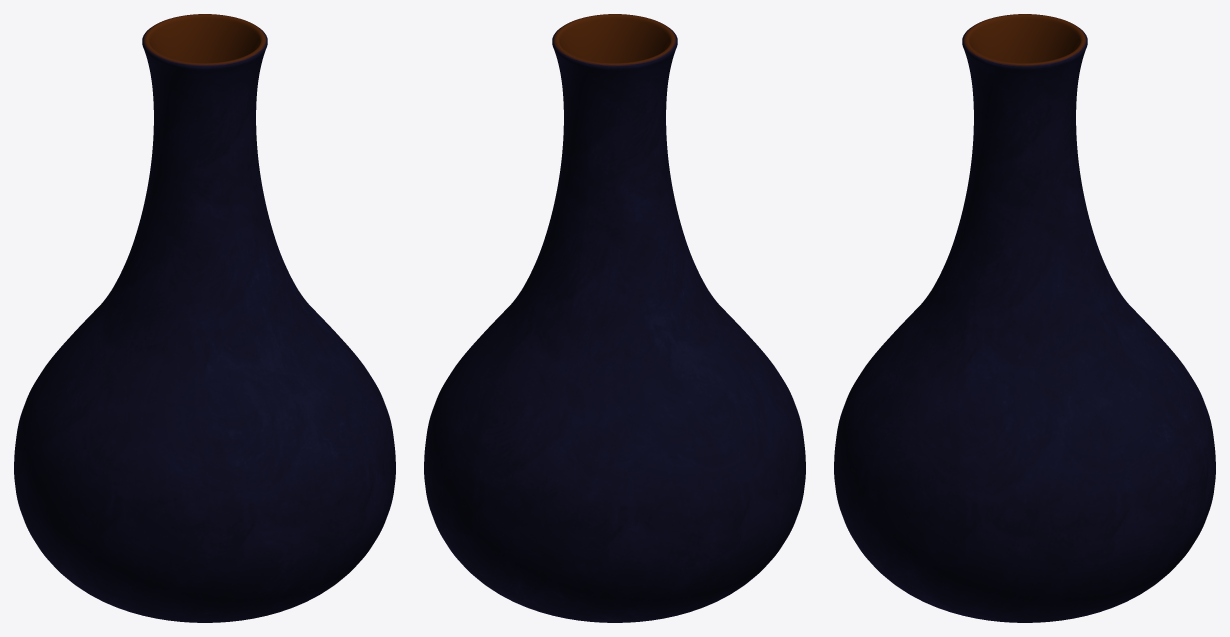
Rendered from Vase_1.glb.
3 views of the same model, side by side, from view 1: azimuth 30°, elevation 25°; view 2: azimuth 150°, elevation 25°; view 3: azimuth 270°, elevation 25° (orthographic).
Visible parts, largest first — view 1: Line003; view 2: Line003; view 3: Line003.
Boxes of the visible parts, x1,y1,x2,y2 form: Line003: (14,14,395,622); Line003: (424,14,805,622); Line003: (834,14,1215,622).
Bounding box in the file's own units: 19.44 × 30.53 × 19.44.
1 material, 1 textured.
